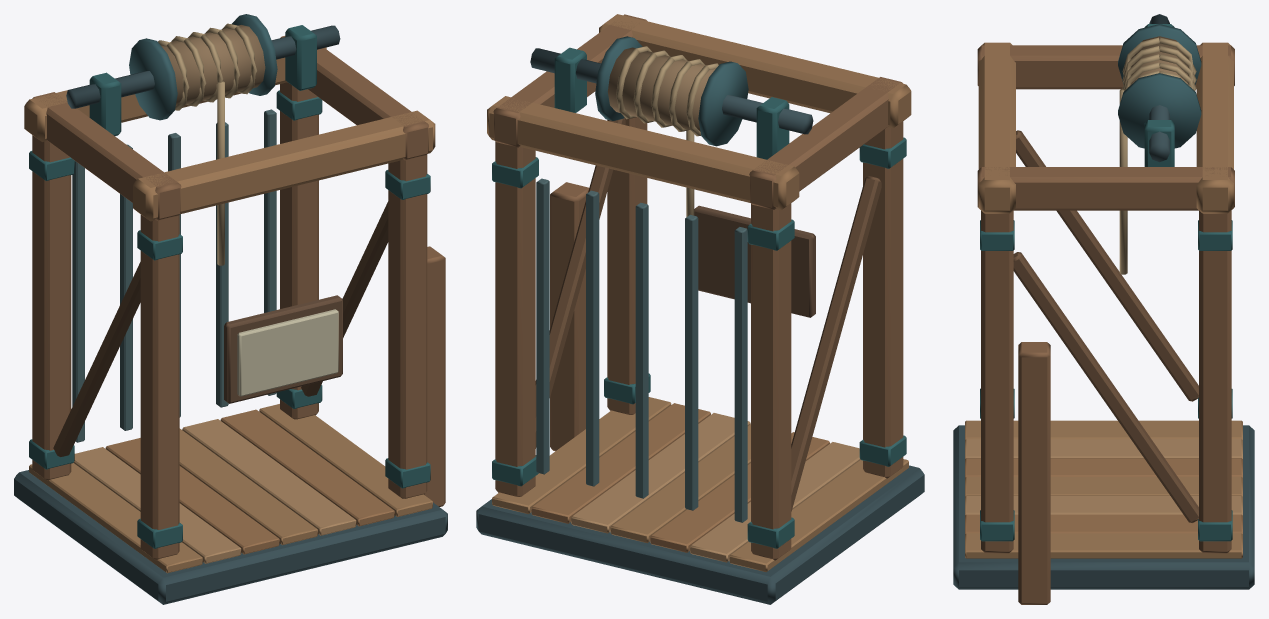
The model's file is elevator_station.glb.
3 renders of one model, left to right at view 1: azimuth 30°, elevation 25°; view 2: azimuth 150°, elevation 25°; view 3: azimuth 270°, elevation 25°, orthographic. The views are drawn at different scales.
Parts seen in each view (by area): view 1: Body; view 2: Body; view 3: Body.
Part boxes in pixels (left/top/right/bottom): Body: left=14, top=14, right=447, bottom=604; Body: left=476, top=14, right=924, bottom=604; Body: left=953, top=14, right=1254, bottom=604.
Bounding box in the file's own units: 1.6 × 2.24 × 1.3.
